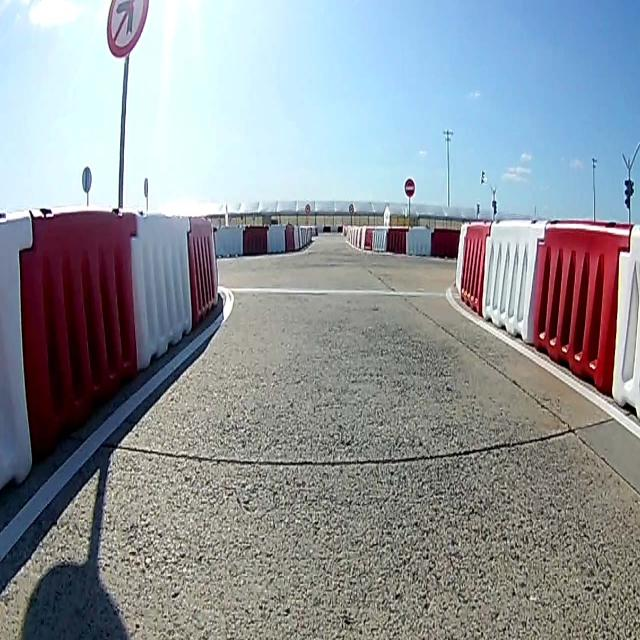girisyok: (404, 178, 415, 198)
soladonulmez: (106, 1, 150, 58)
